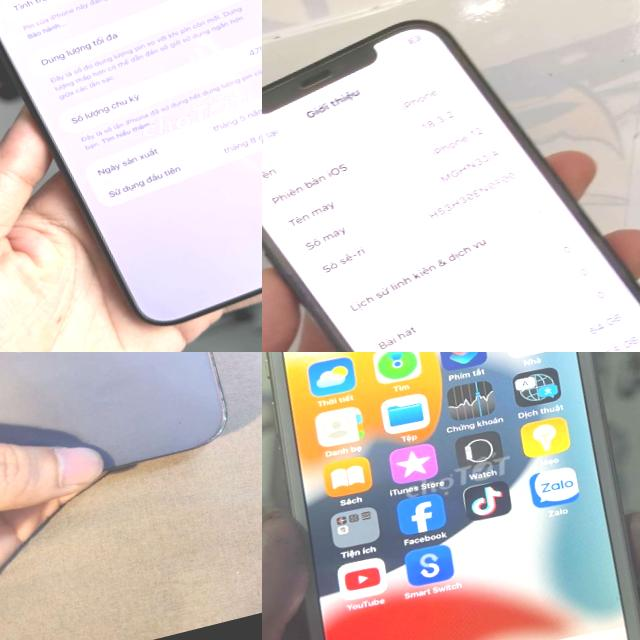gen_12_13: (262, 0, 640, 352)
gen_14: (0, 352, 246, 505)
gen_15: (0, 0, 262, 352)
gen_6: (262, 352, 640, 640)
